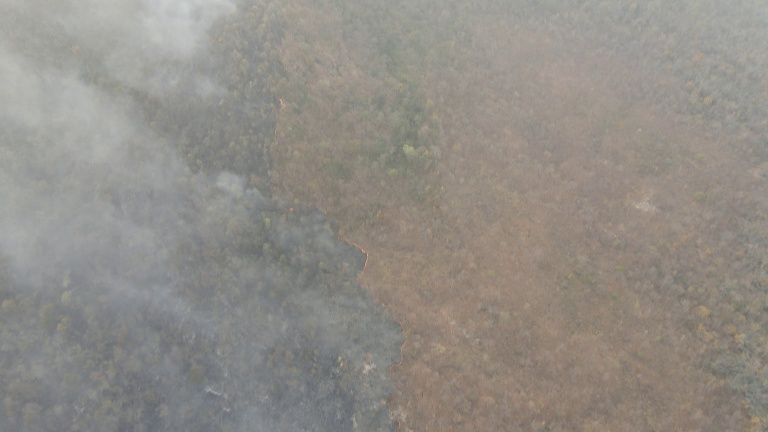fire: (331, 214, 369, 303), (264, 91, 291, 200)
smoke: (1, 1, 411, 430)
